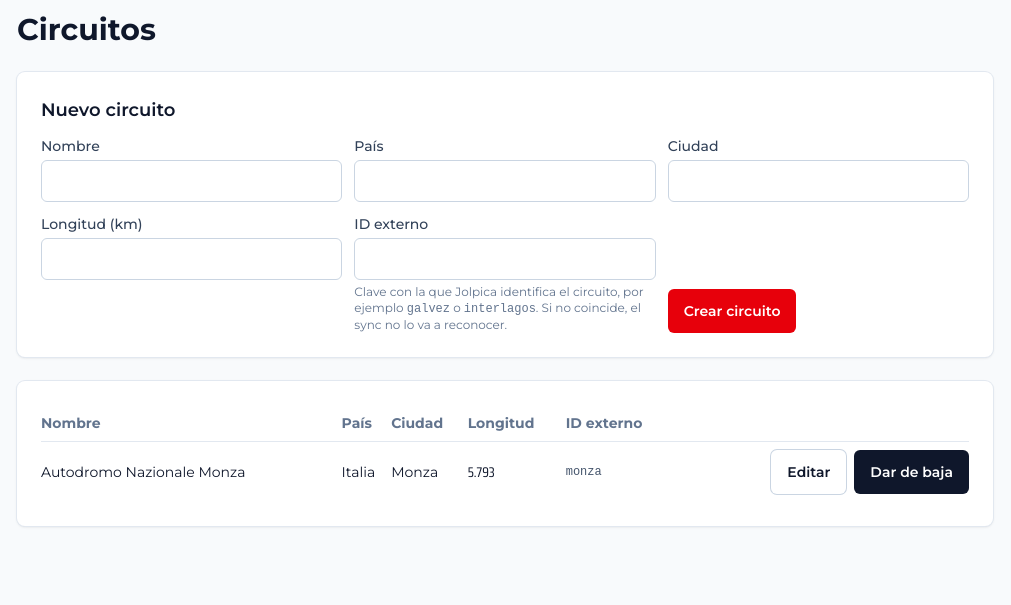
Test case: CircuitsPage › crea un circuito y lo muestra en el listado
Check: the text "Autodromo Nazionale Monza" is shown, box [41,442,342,502]
In the field labelled "Nombre": (192, 181) [41,160,342,202], type "Spa-Francorchamps"
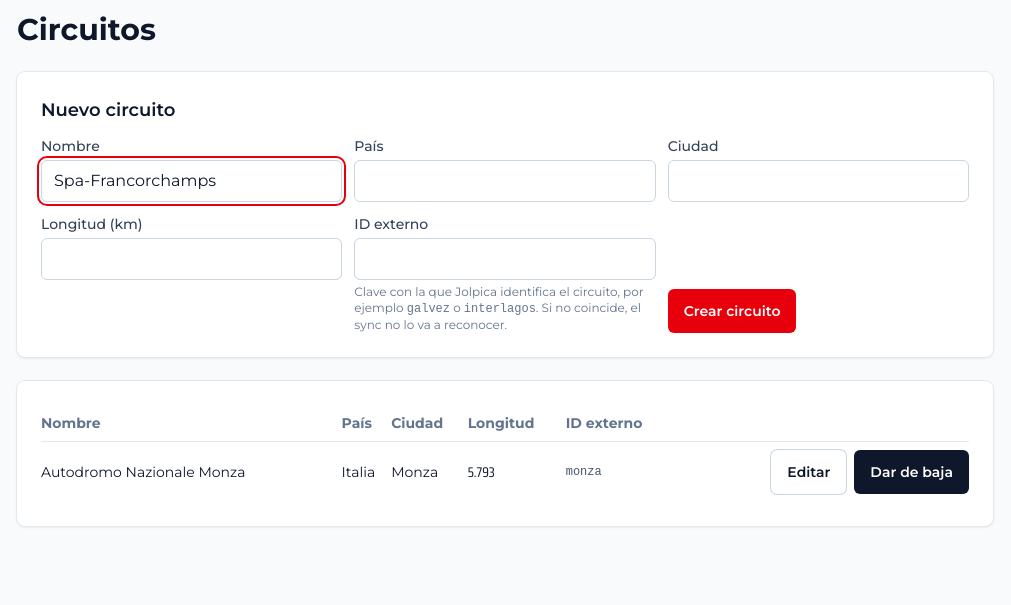
In the field labelled "País": (505, 181) [354,160,656,202], type "Bélgica"
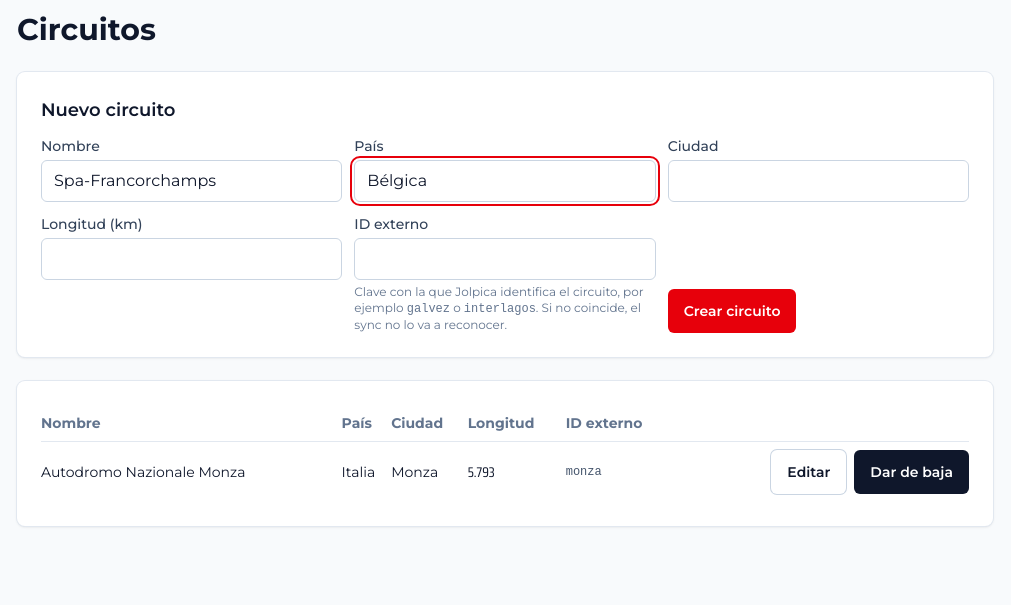
In the field labelled "Ciudad": (818, 181) [668,160,969,202], type "Stavelot"
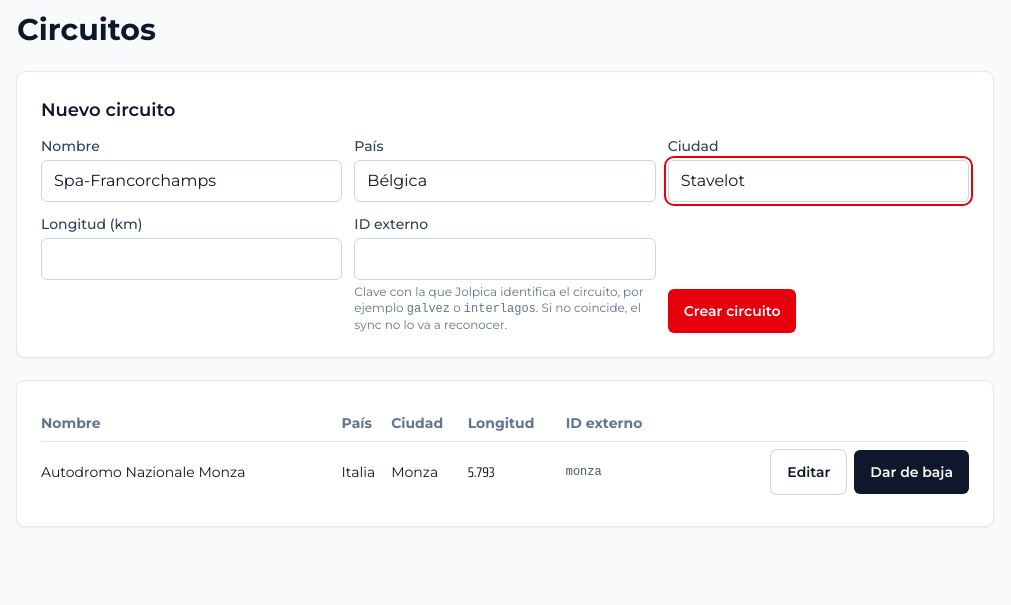
In the number field labelled "Longitud (km)": (192, 259) [41,238,342,280], type "7.004"
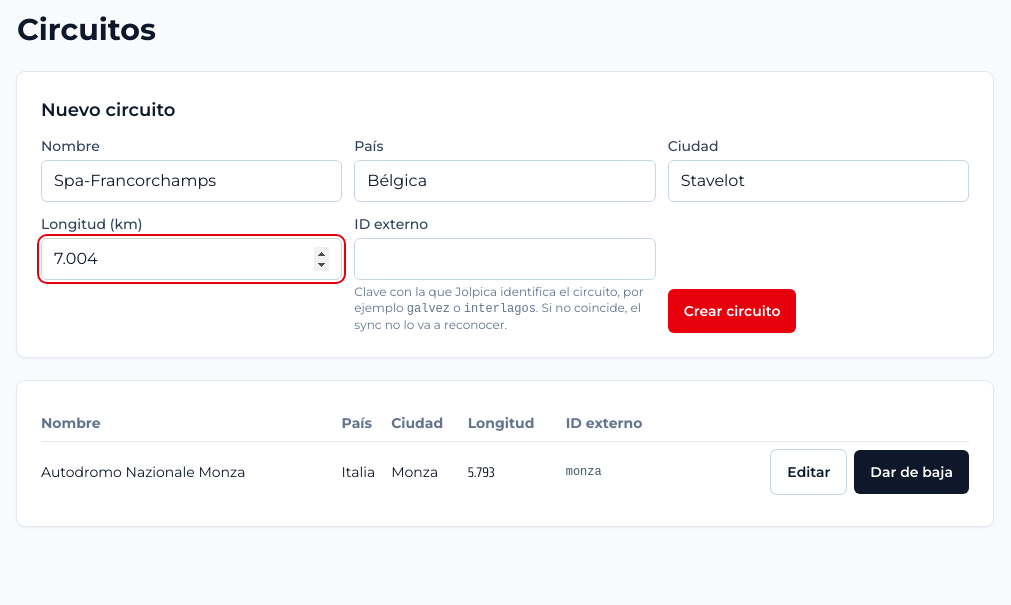
In the field labelled "ID externo": (505, 259) [354,238,656,280], type "spa"
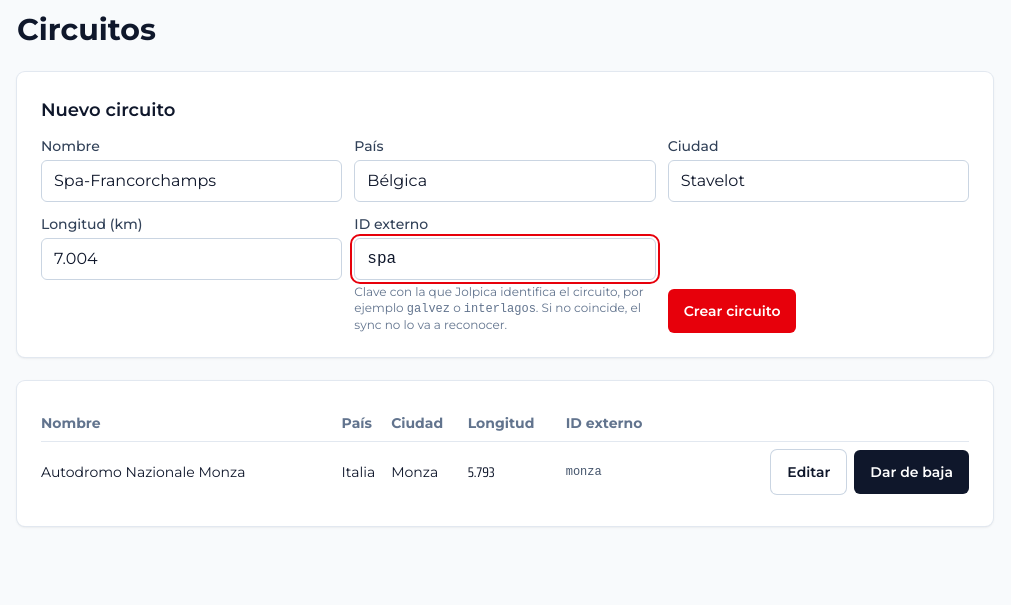
Click the button "Crear circuito": (732, 311) [668,289,796,333]
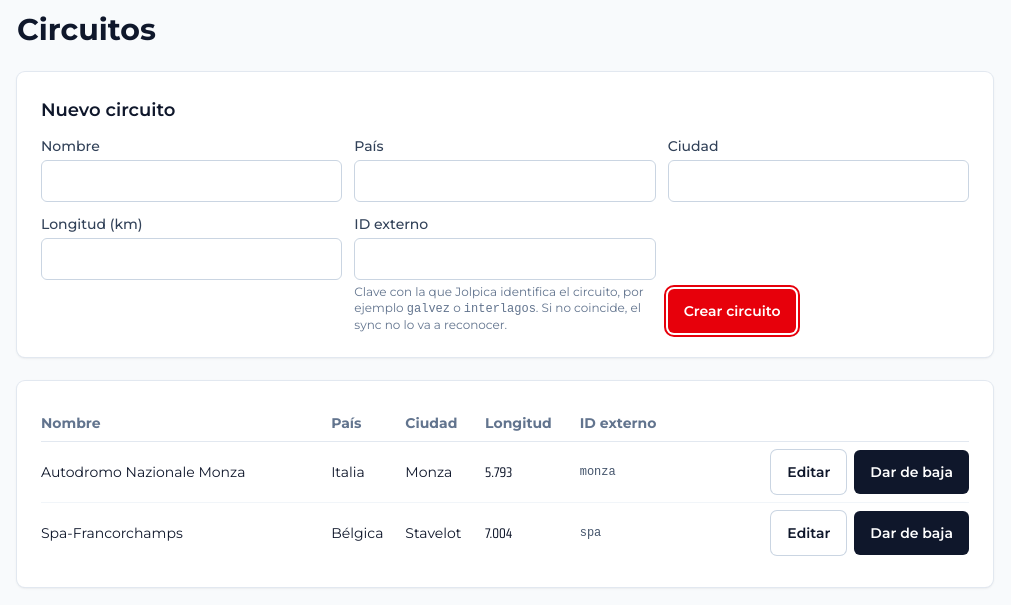
Check: the text "Spa-Francorchamps" is shown, box [41,502,331,563]
